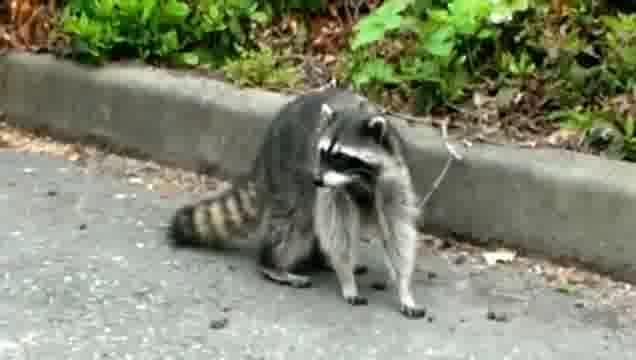raccoon: (170, 89, 428, 321)
